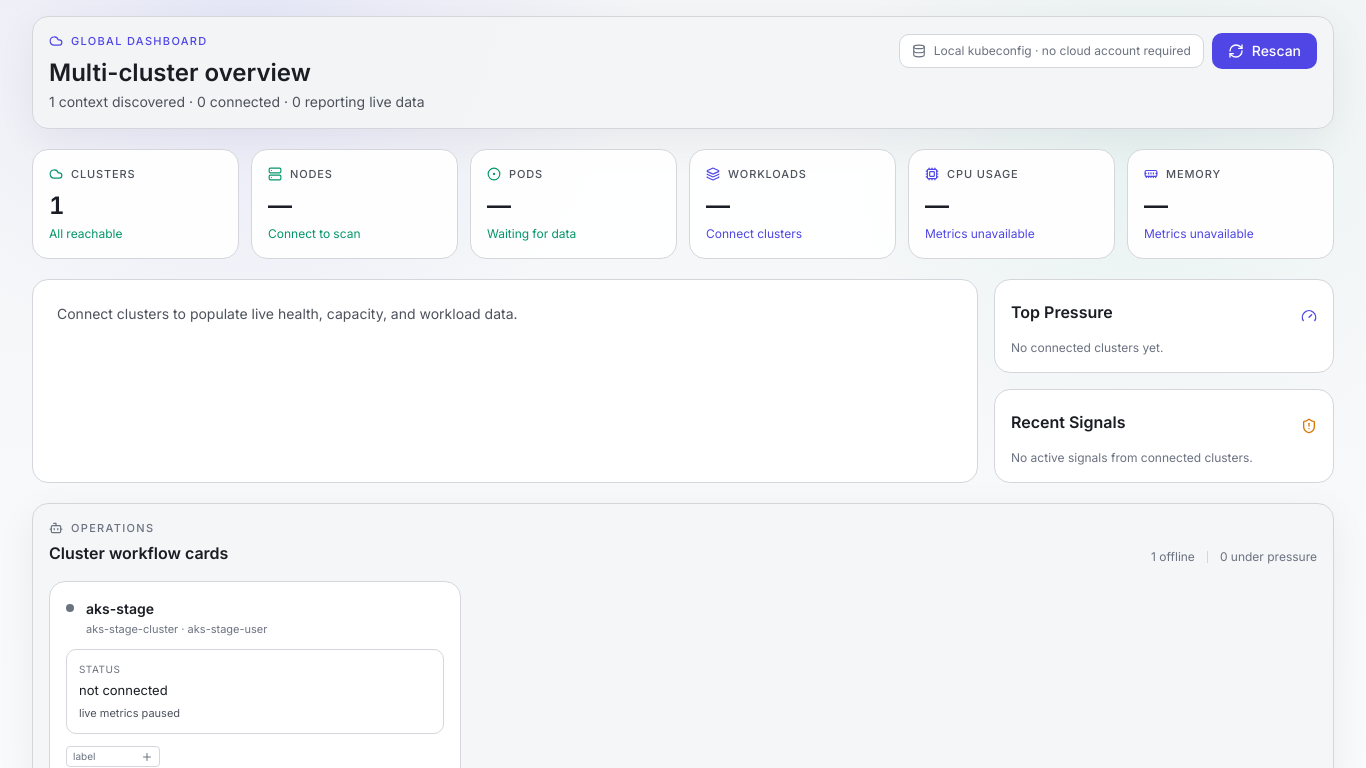
Test: FleetView › opens a cluster directly into workload triage
This screenshot has width=1366, height=768.
Click the button "aks-stage".
click(120, 608)  # box x1=86 y1=598 x2=154 y2=618
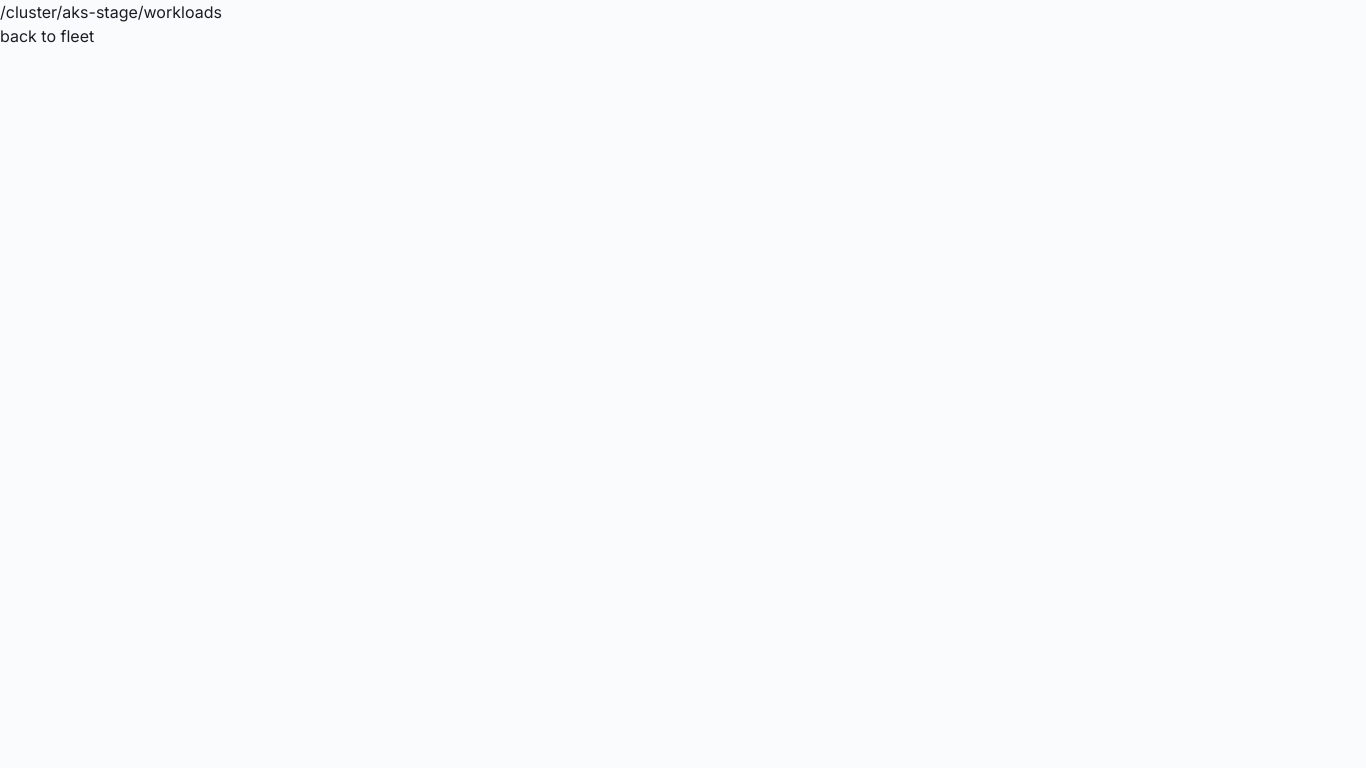
expect the text with test id "location" reads "/cluster/aks-stage/workloads": met, box x1=0 y1=2 x2=222 y2=22
